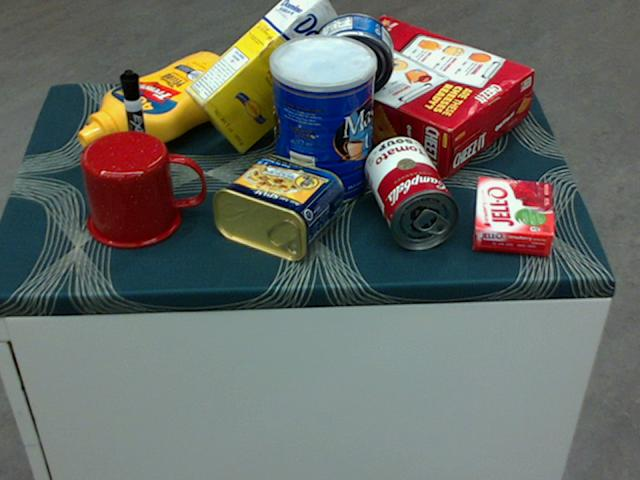cracker_box: (294, 14, 531, 178)
gelatin_box: (473, 177, 554, 253)
large_marker: (118, 70, 152, 178)
master_chef_can: (268, 35, 375, 207)
mug: (81, 130, 204, 248)
mustard_bottle: (76, 51, 244, 149)
potted_meat_can: (211, 154, 342, 260)
sugar_box: (182, 0, 356, 155)
tomato_soup_can: (365, 135, 458, 248)
tuna_fish_can: (312, 12, 393, 96)
